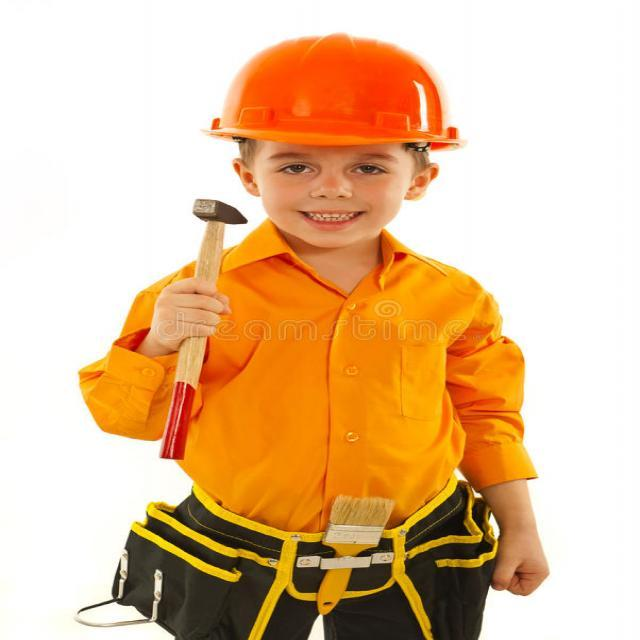hammer: (147, 188, 256, 464)
